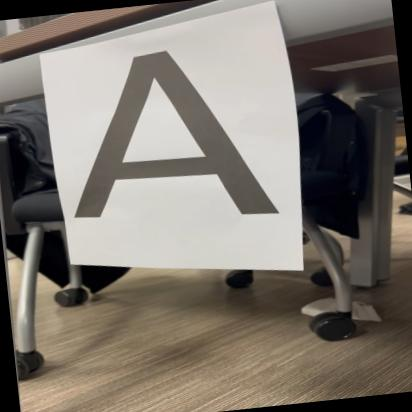seat: (46, 39, 286, 242)
